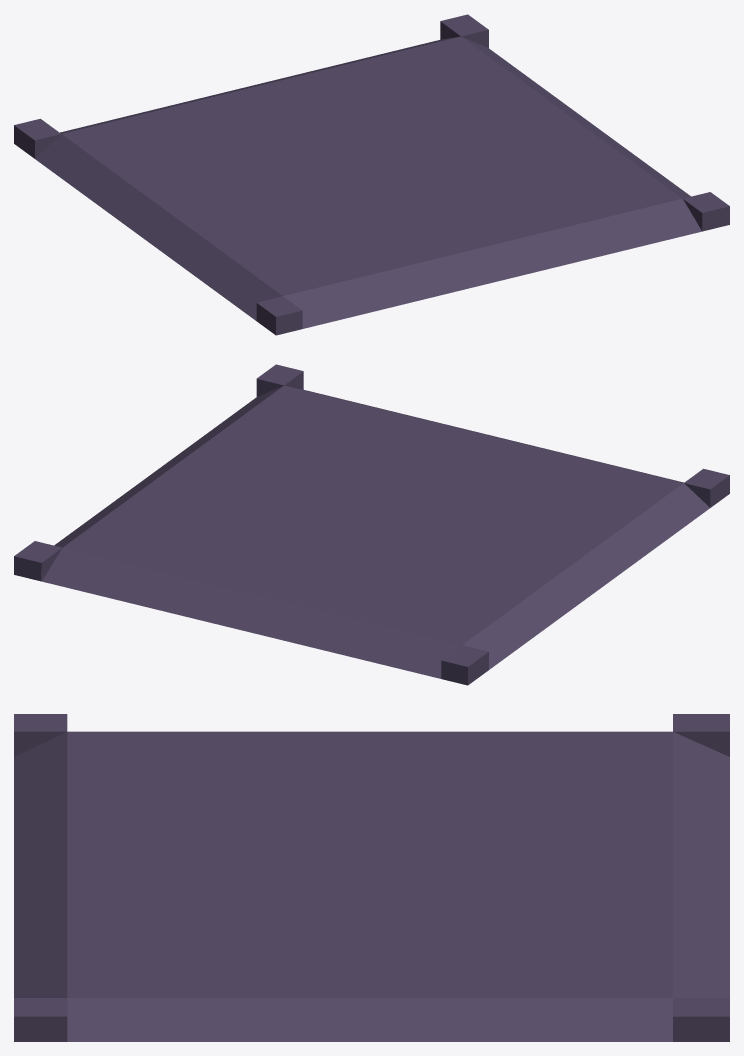
File: PowerUpSpawner.fbx
The picture shows the model from 3 angles, top to bottom: view 1: azimuth 30°, elevation 25°; view 2: azimuth 150°, elevation 25°; view 3: azimuth 270°, elevation 25°; orthographic projection. The views are drawn at different scales.
Parts seen in each view (by area): view 1: Cube; view 2: Cube; view 3: Cube.
Part boxes in pixels (<box>): Cube: <box>14,14,729,335</box>; Cube: <box>14,364,729,685</box>; Cube: <box>14,714,729,1041</box>.
Size of the model in its own units: 893 by 34.92 by 893.
